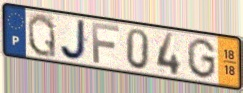0: (124, 27, 151, 71)
4: (155, 30, 184, 78)
F: (90, 21, 121, 65)
G: (186, 36, 217, 80)
J: (59, 18, 90, 62)
Q: (26, 12, 58, 60)
